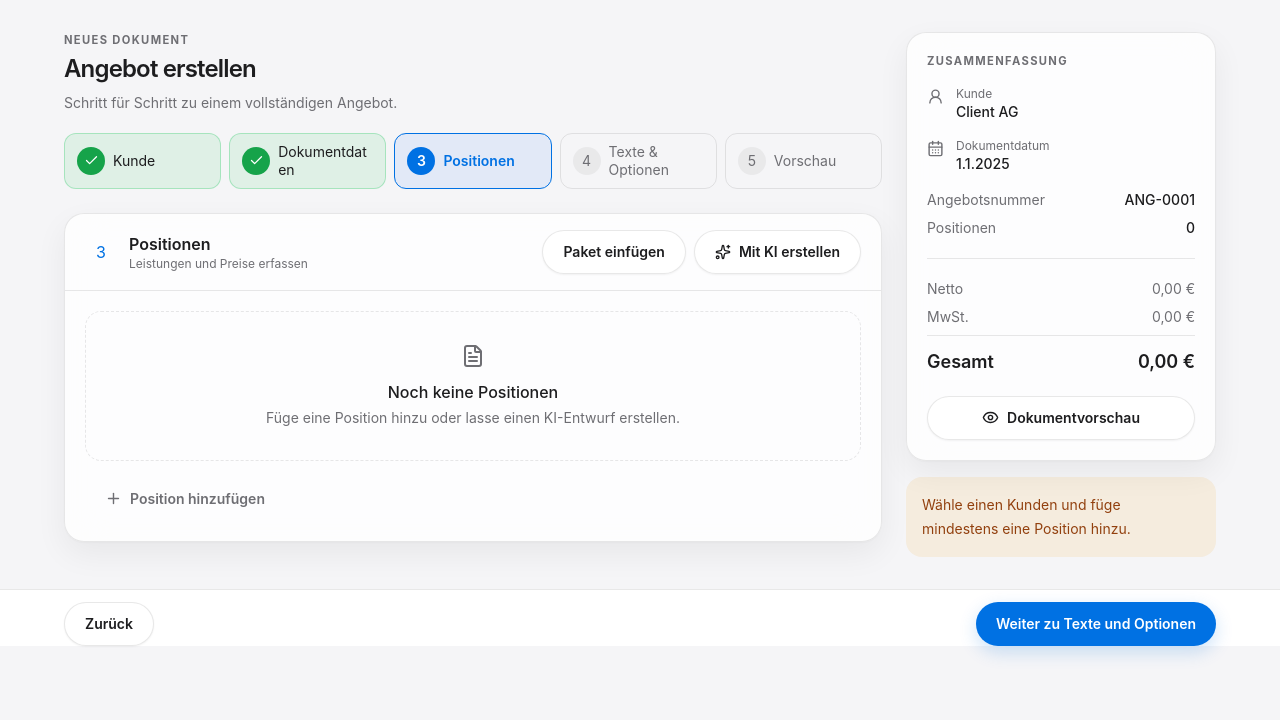
Test: DocumentEditor send email status › opens the AI dialog from the offer creation wizard
Click the button "Mit KI erstellen" at (777, 252), box [694, 230, 861, 274]
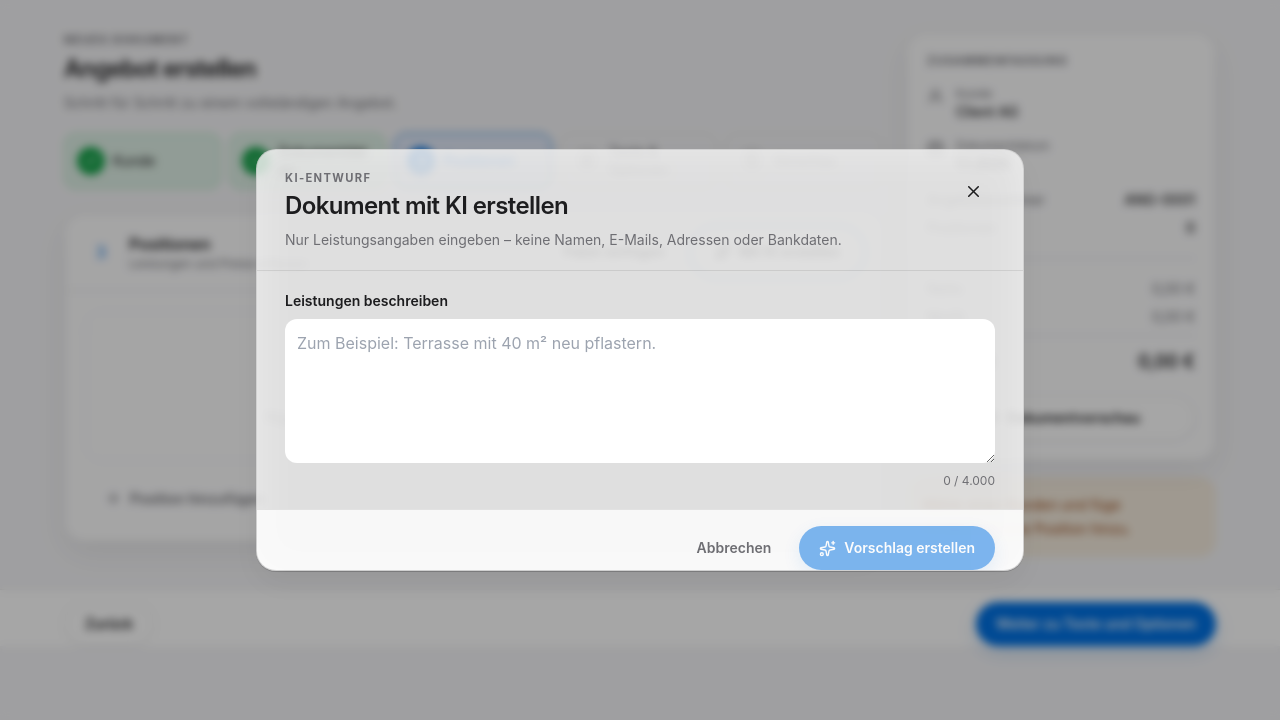
expect the dialog "Dokument mit KI erstellen" is shown: met, box [256, 149, 1024, 571]
expect the text box labelled "Leistungen beschreiben" is enabled: met, box [285, 319, 995, 463]
